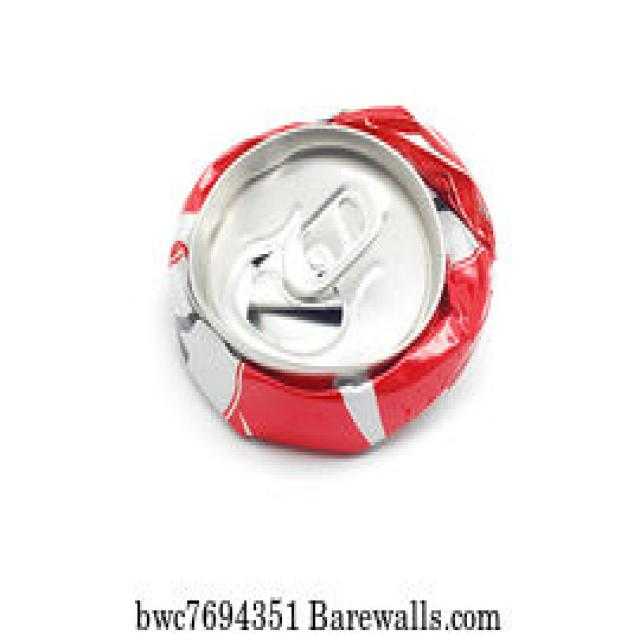non-organic waste: (157, 76, 507, 470)
